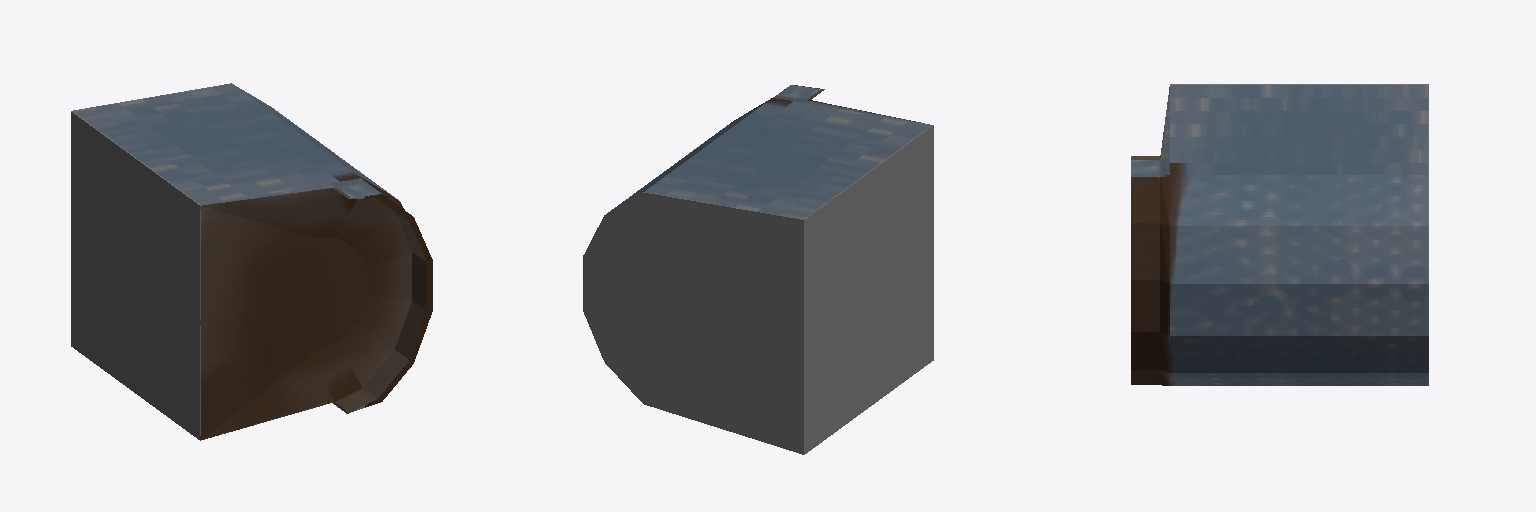
3 renders of one model, left to right at view 1: azimuth 30°, elevation 25°; view 2: azimuth 150°, elevation 25°; view 3: azimuth 270°, elevation 25°, orthographic.
Parts seen in each view (by area): view 1: Cylinder007; view 2: Cylinder007; view 3: Cylinder007.
Part boxes in pixels (x1,y1,x2,y2): Cylinder007: (71,83,432,440); Cylinder007: (583,85,933,454); Cylinder007: (1131,84,1428,385).
Bounding box in the file's own units: 39.5 × 40 × 46.03.
1 materials, 1 textured.